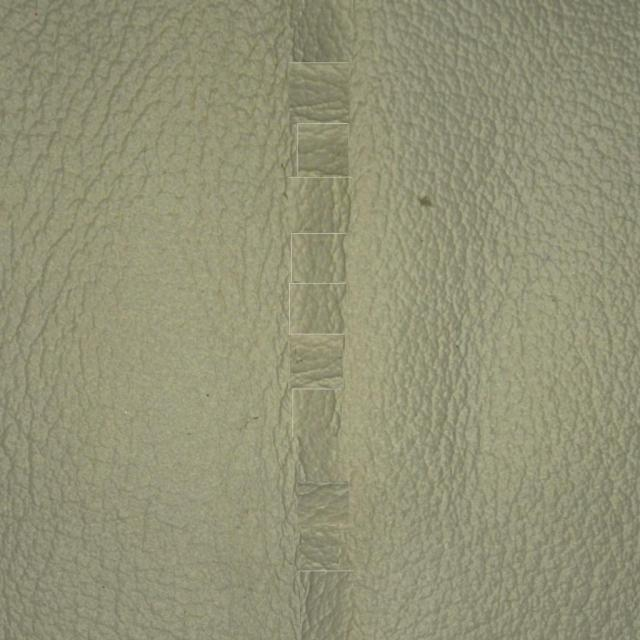Healed Injury: (292, 319, 368, 598), (277, 17, 365, 215)
